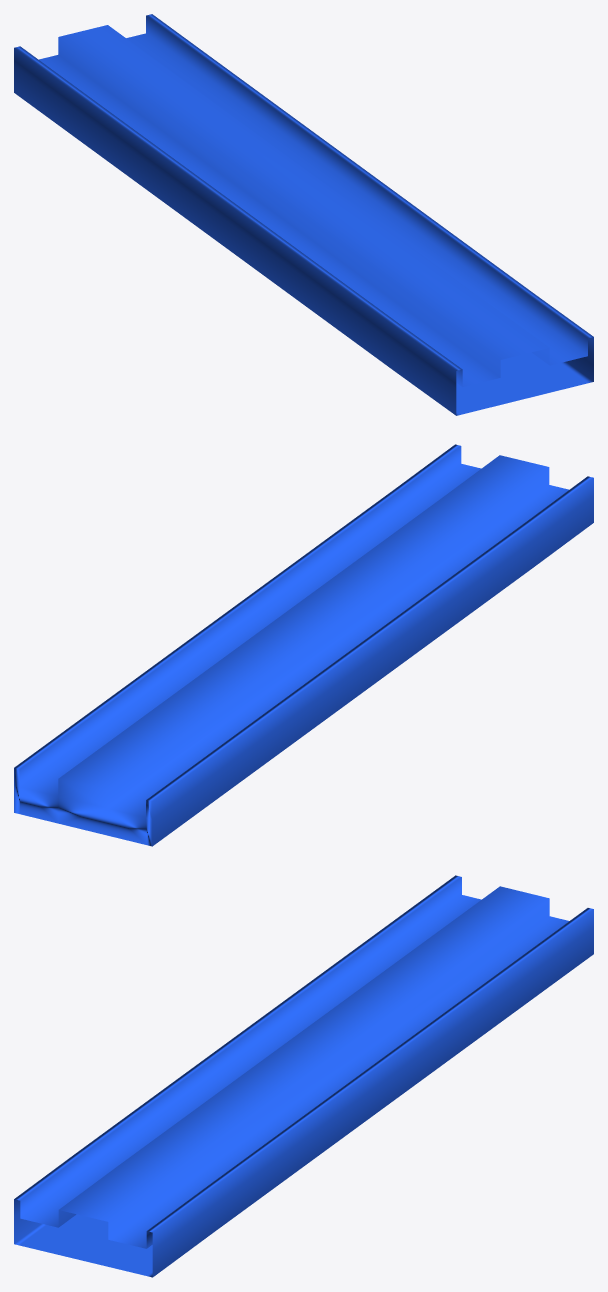
File: straight rail.fbx
3 renders of one model, top to bottom at view 1: azimuth 30°, elevation 25°; view 2: azimuth 150°, elevation 25°; view 3: azimuth 330°, elevation 25°, orthographic.
Parts seen in each view (by area): view 1: polySurface173; view 2: polySurface173; view 3: polySurface173.
Part boxes in pixels (box(x1,y1,x2,y2)): polySurface173: box(14, 14, 593, 415); polySurface173: box(14, 444, 593, 846); polySurface173: box(14, 875, 593, 1277).
Size of the model in its own units: 1.25 by 0.3873 by 6.9.
